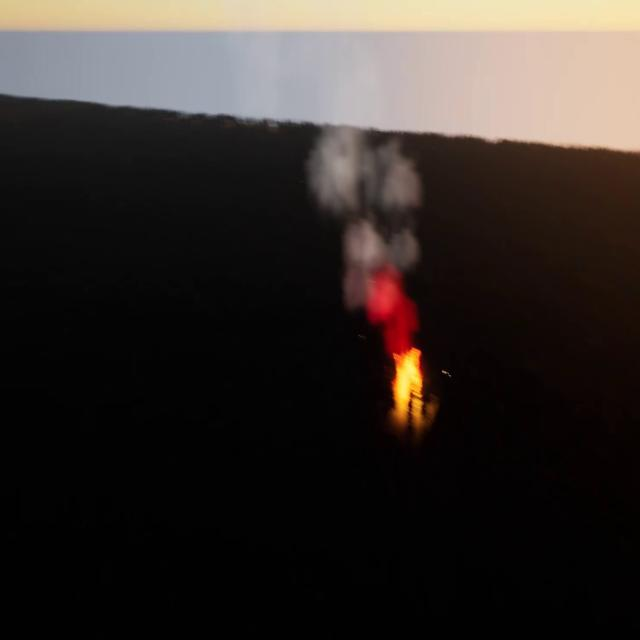fire: (387, 344, 429, 406)
smoke: (305, 120, 425, 348)
